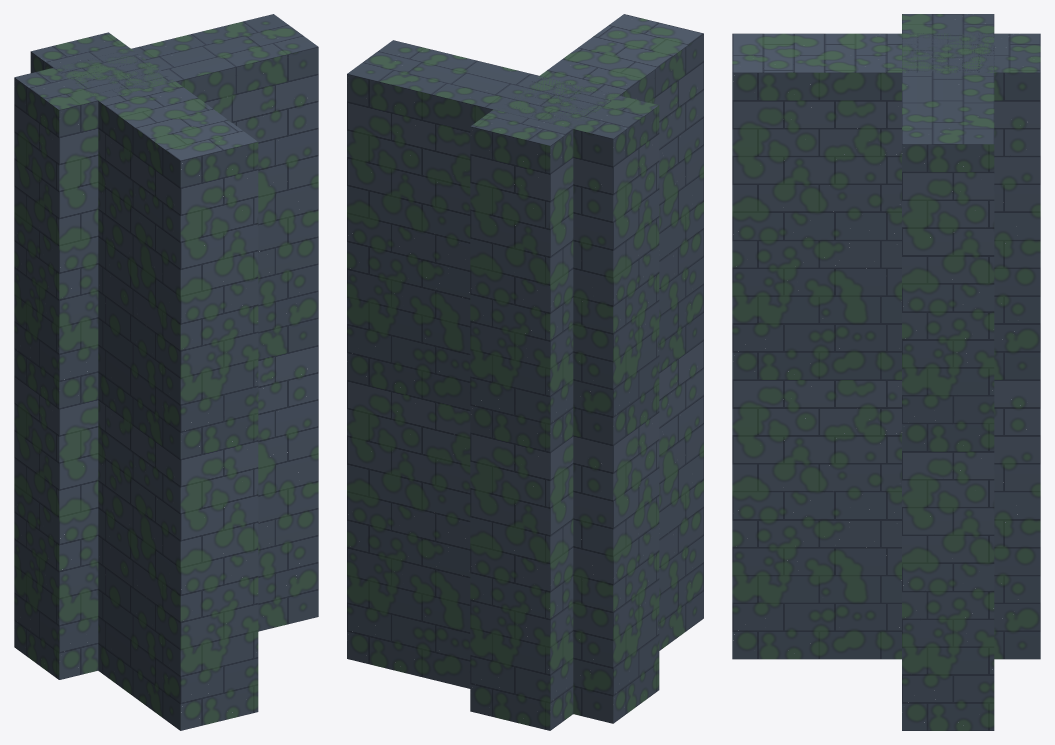
File: corner_inner_1m.obj
3 views of the same model, side by side, from view 1: azimuth 30°, elevation 25°; view 2: azimuth 150°, elevation 25°; view 3: azimuth 270°, elevation 25° (orthographic). The views are drawn at different scales.
Parts seen in each view (by area): view 1: corner_inner_1m; view 2: corner_inner_1m; view 3: corner_inner_1m.
Boxes of the visible parts, x1,y1,x2,y2 form: corner_inner_1m: (14,14,318,730); corner_inner_1m: (347,14,703,730); corner_inner_1m: (732,14,1040,730).
Bounding box in the file's own units: 1 × 2.1 × 1.
1 material, 1 textured.
